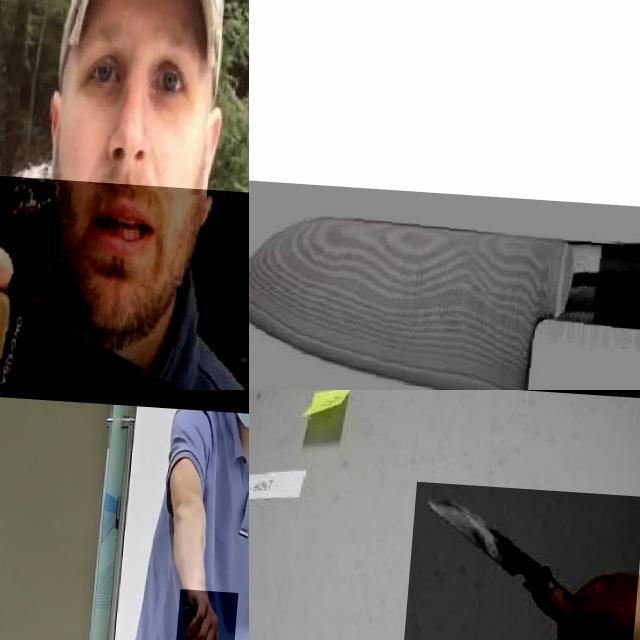-: (249, 178, 640, 390), (0, 169, 249, 390), (406, 478, 640, 640)
gun-knife-thesis - v11 Yolov5 augmented: (172, 584, 241, 640)
